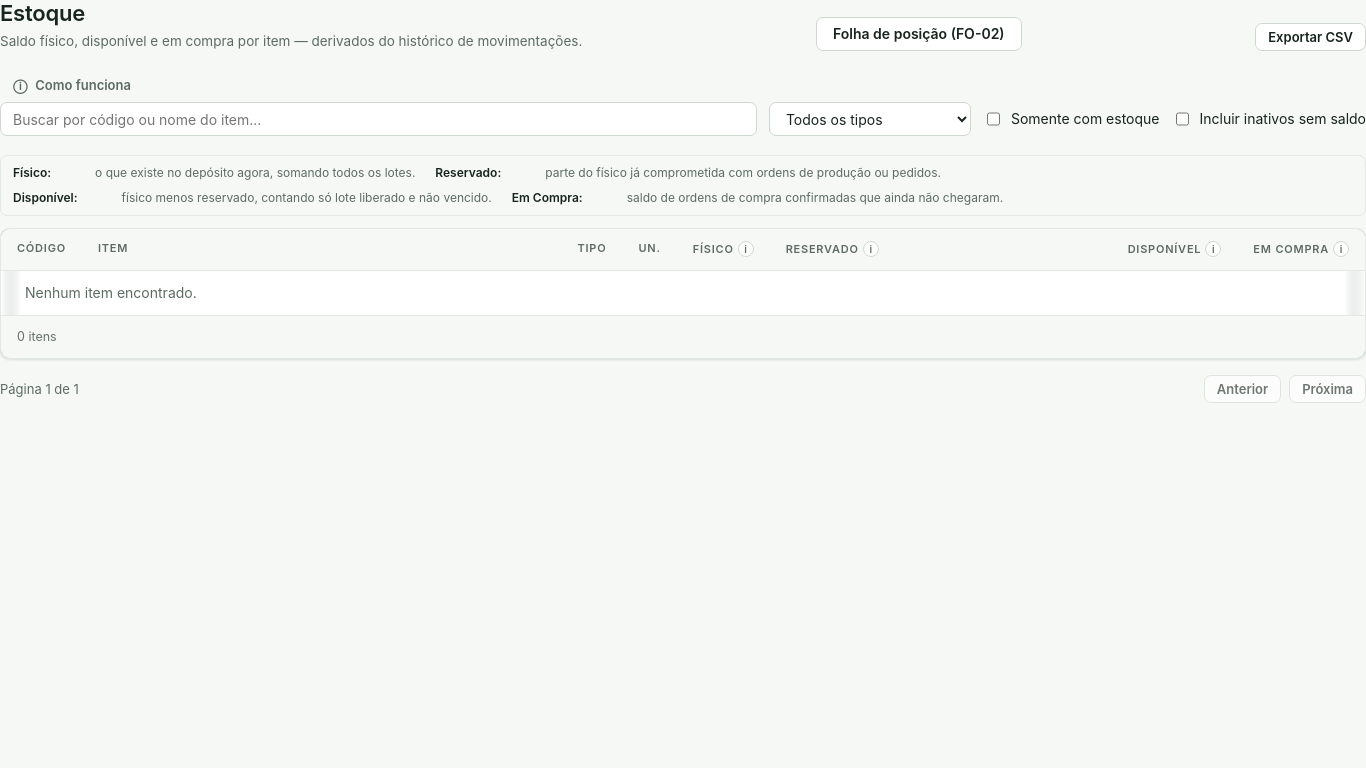
it: Posição de Estoque › diz que o saldo é somado, não digitado — e a explicação começa fechada
Click the button "ⓘ Como funciona" at (72, 85), box top-left (0, 71), bottom-right (144, 99)
(page scrolled)
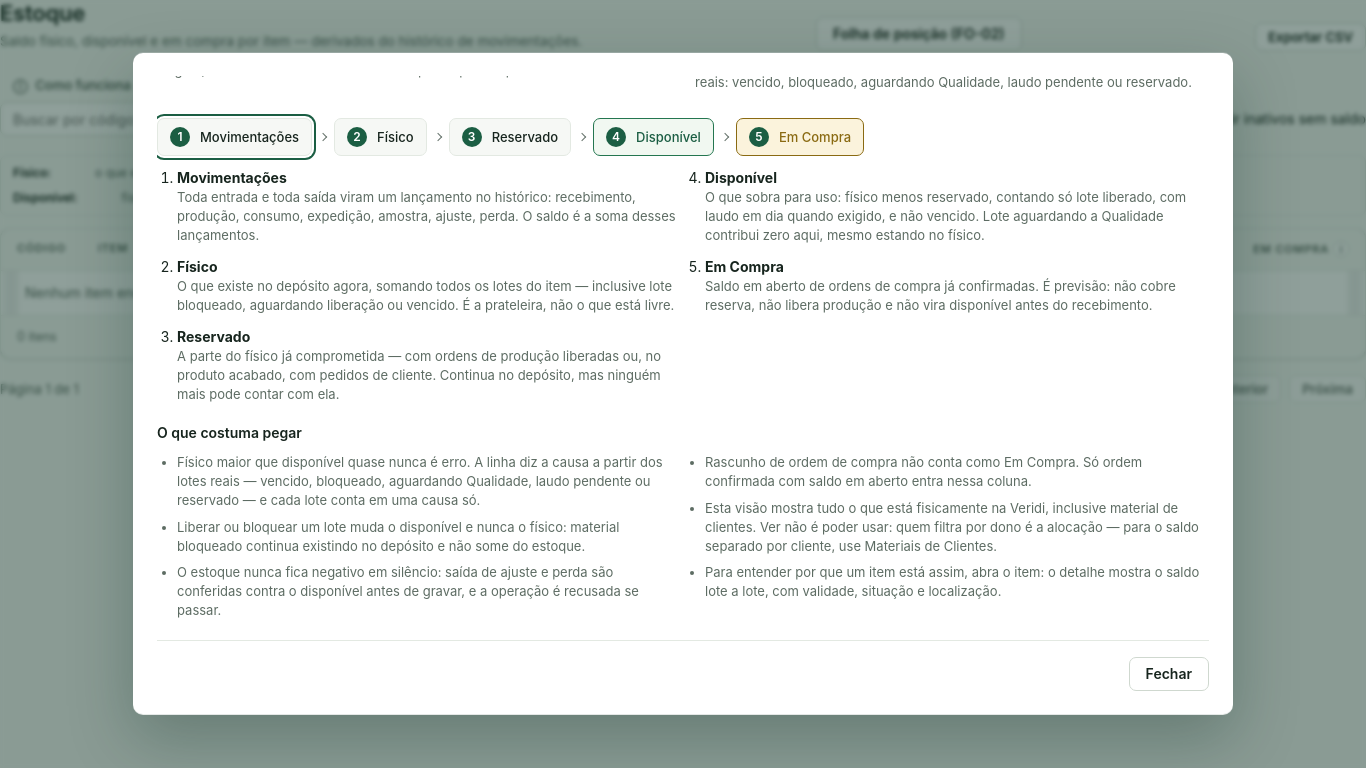
Check: the button "ⓘ Como funciona" is expanded, box top-left (0, 71), bottom-right (144, 99)
Check: the list item "O estoque nunca fica negativo em silêncio" is shown, box top-left (177, 564), bottom-right (639, 618)
Click the button "Fechar" at (1169, 674), box top-left (1129, 657), bottom-right (1209, 691)
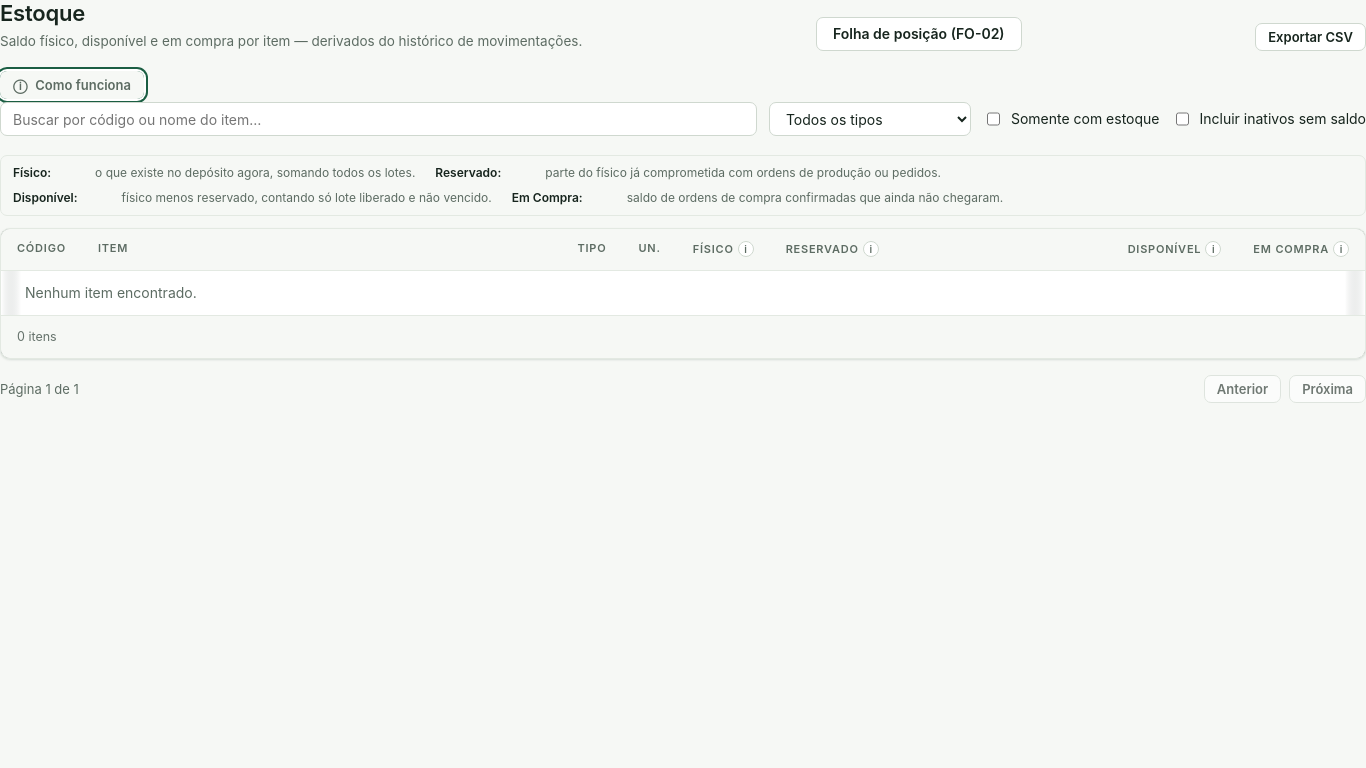
Check: the button "ⓘ Como funciona" is collapsed, box top-left (0, 71), bottom-right (144, 99)
